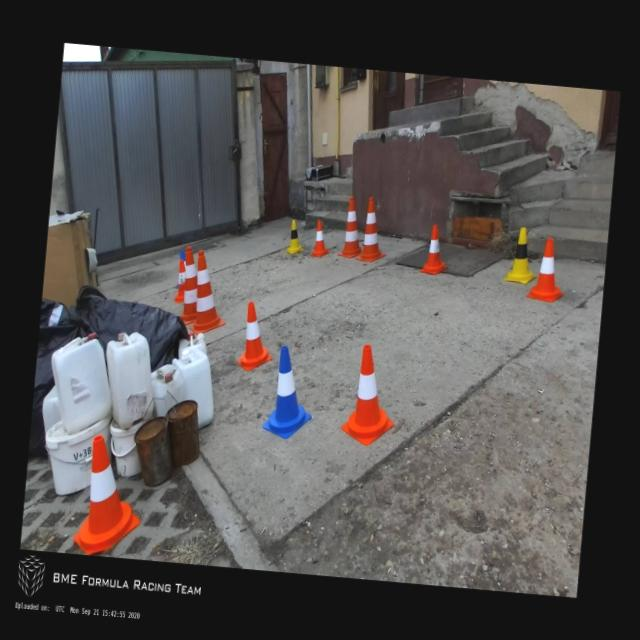blue_cone: (260, 343, 317, 441), (176, 250, 186, 290)
large_orange_cone: (188, 249, 232, 336), (356, 196, 390, 264), (177, 245, 203, 327), (336, 196, 366, 258)
orange_cone: (71, 432, 148, 558), (339, 342, 401, 446), (236, 300, 278, 372), (525, 235, 568, 304), (420, 223, 450, 276), (309, 218, 332, 257), (173, 258, 188, 304)
yellow_cone: (504, 226, 541, 285), (285, 218, 306, 254)
